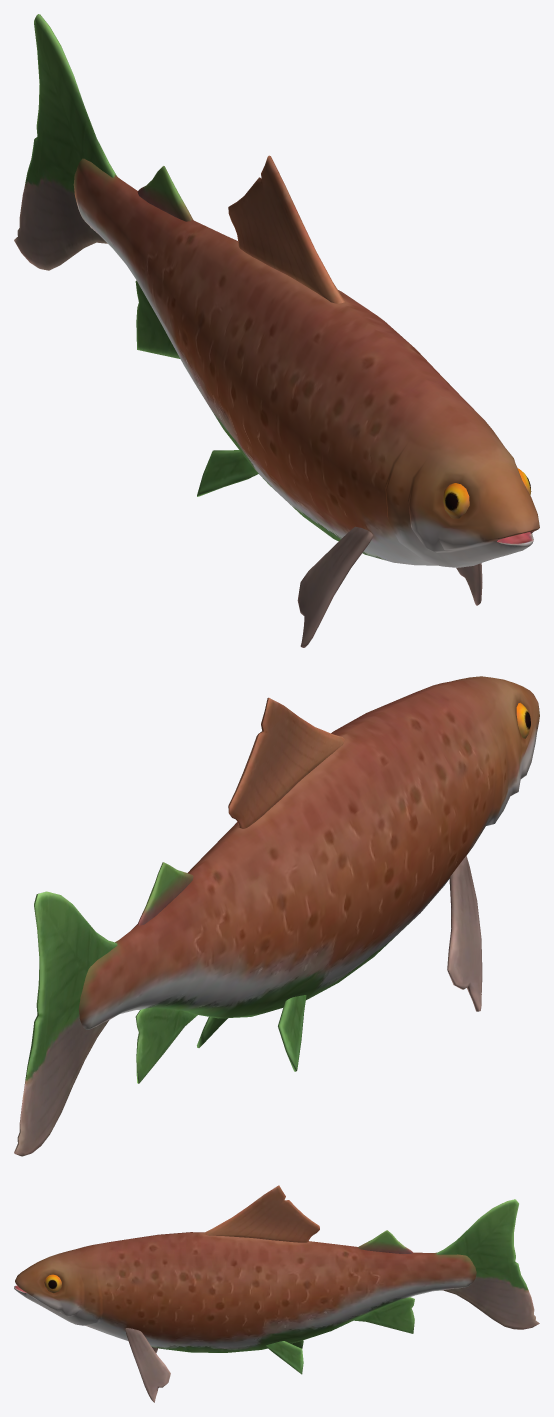
3 renders of one model, top to bottom at view 1: azimuth 30°, elevation 25°; view 2: azimuth 150°, elevation 25°; view 3: azimuth 270°, elevation 25°, orthographic. The views are drawn at different scales.
Parts seen in each view (by area): view 1: SM_Fish_Trout_01_LOD0; view 2: SM_Fish_Trout_01_LOD0; view 3: SM_Fish_Trout_01_LOD0.
Part boxes in pixels (box(x1,y1,x2,y2)): SM_Fish_Trout_01_LOD0: box(14, 14, 539, 647); SM_Fish_Trout_01_LOD0: box(14, 676, 539, 1156); SM_Fish_Trout_01_LOD0: box(14, 1185, 539, 1402).
Bounding box in the file's own units: 0.1384 × 0.2807 × 0.6831.
1 material, 1 textured.
